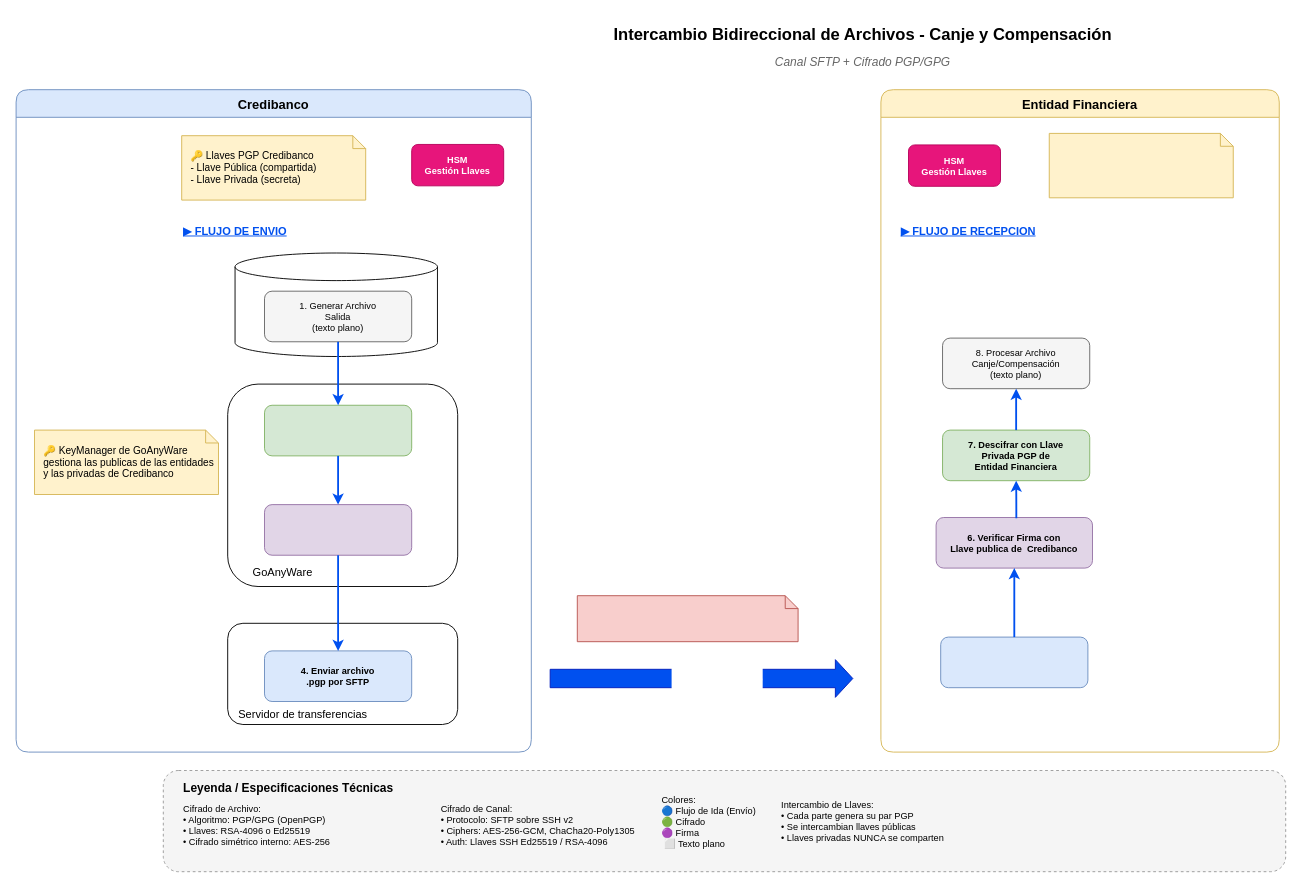
Some shapes in this 1302 by 888 pixel diagram are drawn without their labels. Each missing label, with the box of its shape:
2. Cifrar con Llave Pública PGP de Entidad Financiera: (264, 404, 412, 456)
3. Firmar con Llave privada de Credibanco: (264, 504, 412, 555)
5. Recibir archivo .pgp por SFTP: (940, 636, 1088, 688)
Canal cifrado: AES-256-GCM / ChaCha20 Autenticación: Llaves SSH Ed25519/RSA-4096: (576, 595, 798, 642)
🔑 Llaves PGP Entidad - Llave Pública (compartida) - Llave Privada (secreta): (1048, 132, 1233, 198)
